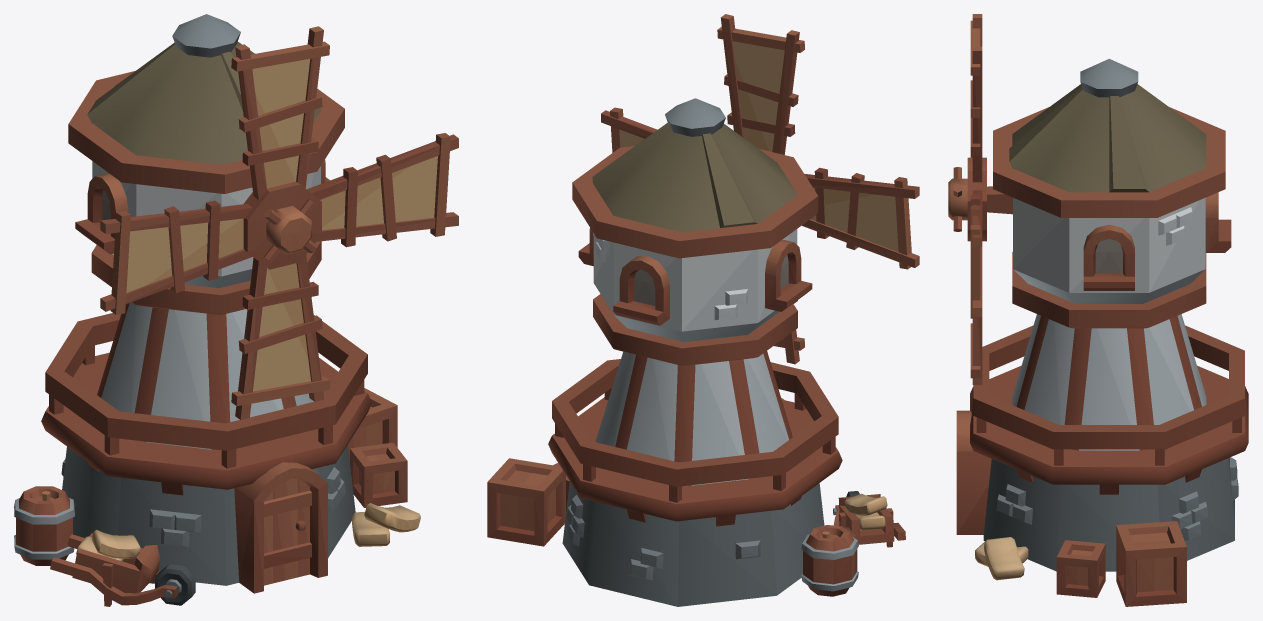
File: windmill-BpymZlpP.glb
3 views of the same model, side by side, from view 1: azimuth 30°, elevation 25°; view 2: azimuth 150°, elevation 25°; view 3: azimuth 270°, elevation 25° (orthographic). The views are drawn at different scales.
Parts seen in each view (by area): view 1: building_windmill_blue, building_windmill_top_fan_blue, building_windmill_top_blue; view 2: building_windmill_blue, building_windmill_top_blue, building_windmill_top_fan_blue; view 3: building_windmill_blue, building_windmill_top_blue, building_windmill_top_fan_blue.
Part boxes in pixels (x1,y1,x2,y2): building_windmill_blue: (14, 302, 420, 606); building_windmill_top_fan_blue: (100, 26, 458, 419); building_windmill_top_blue: (68, 14, 344, 314); building_windmill_blue: (487, 351, 905, 606); building_windmill_top_blue: (572, 98, 818, 365); building_windmill_top_fan_blue: (601, 14, 919, 364); building_windmill_blue: (956, 314, 1248, 606); building_windmill_top_blue: (987, 58, 1231, 328); building_windmill_top_fan_blue: (948, 14, 986, 384).
Bounding box in the file's own units: 1.13 × 1.46 × 0.8165.
